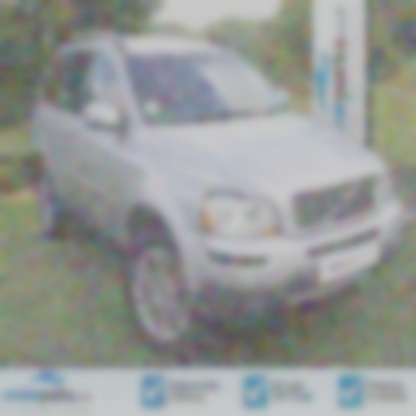Vehicle: (28, 30, 405, 358)
